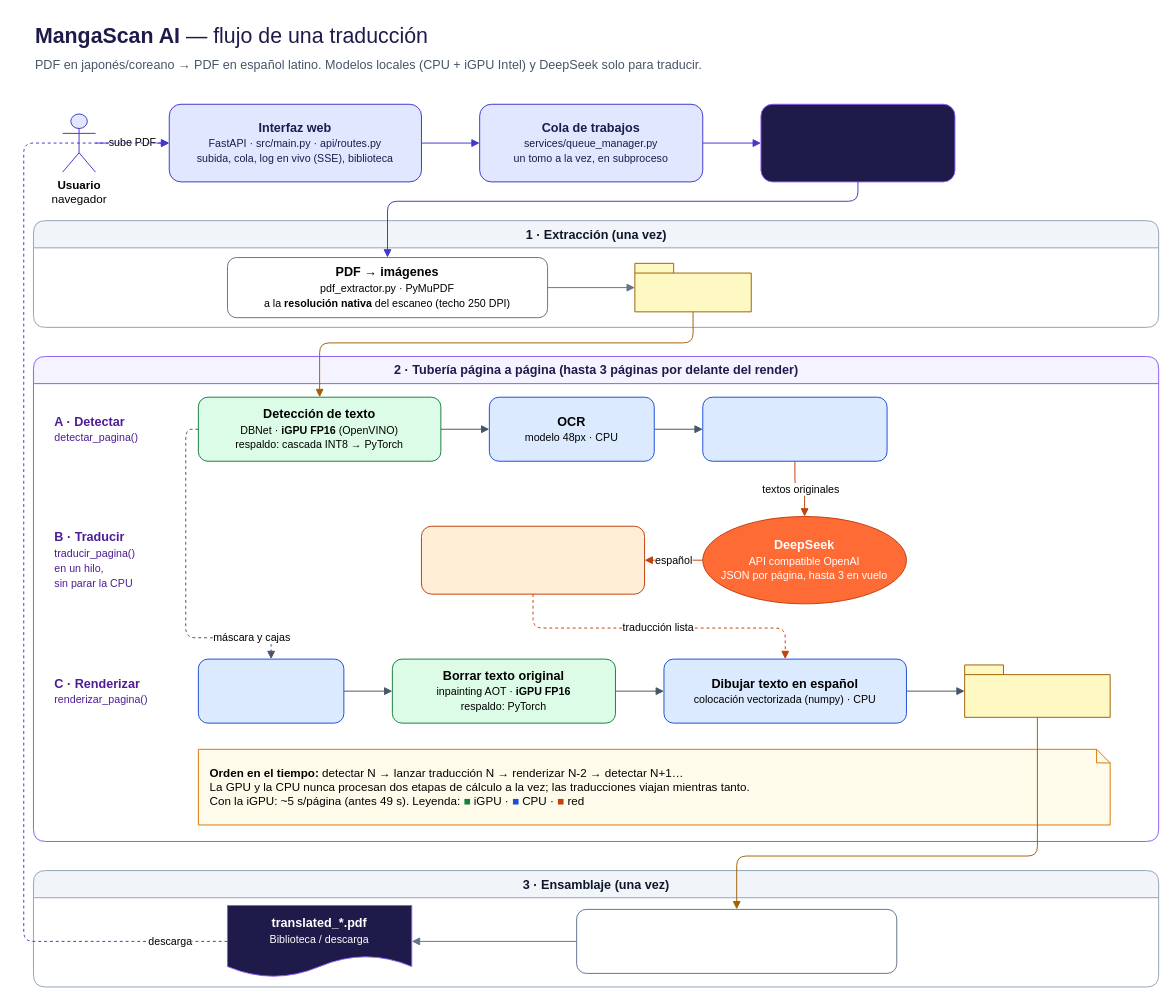
Some shapes in this 1176 by 1004 pixel diagram are drawn without their labels. Here are the shapes that lost their labels. From the top down, the centre of each, then its label:
the point at 857,142: Orquestador src/orquestador.py
the point at 692,287: raw/*.png
the point at 794,428: Agrupar líneas en burbujas · orden simple
the point at 532,559: Validación rechaza kanji/kana y reintenta backoff ante HTTP 429
the point at 270,690: Máscara refinado · CPU
the point at 1037,690: render/*_es.png
the point at 736,940: Imágenes → PDF pdf_builder.py · JPEG + img2pdf en streaming (sin OOM)
